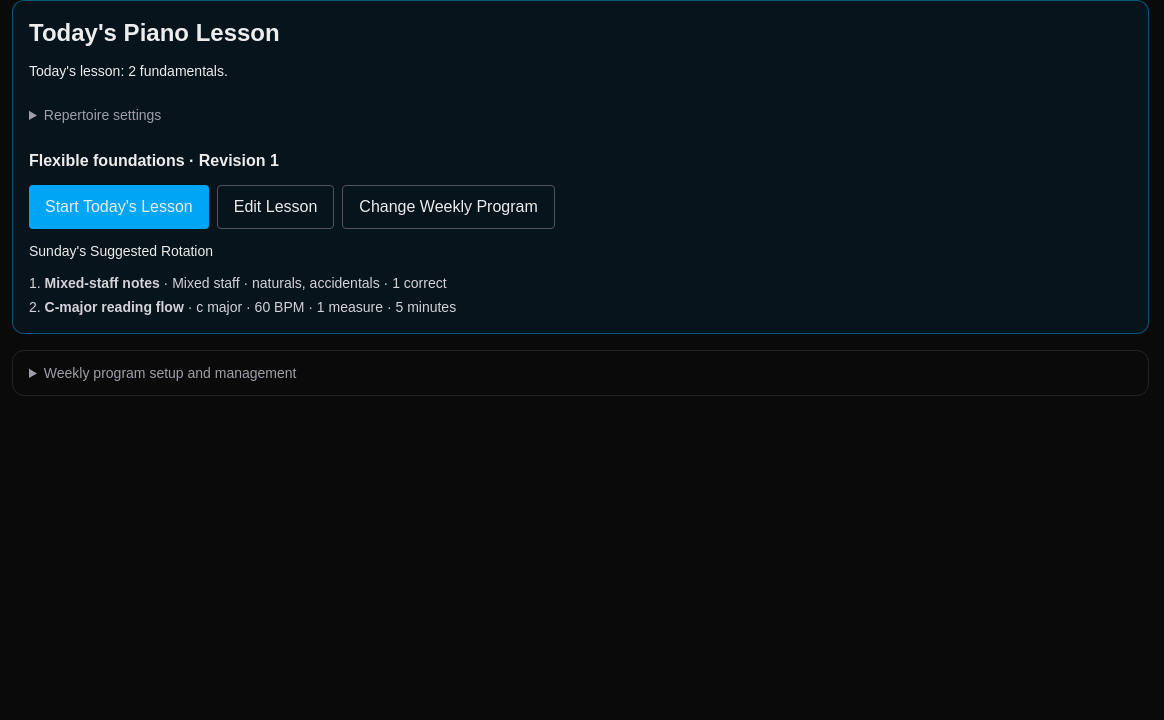
Test: one-action morning launch through the existing V2 owner › shares explicit manual repertoire preference changes with the daily card without changing the program
The width and height of the screenshot is (1164, 720).
Expected: the button "Start Today's Lesson" is enabled, 29,185 -> 209,229
Click the button "Edit Lesson" at (276, 207), box 217,185 -> 334,229
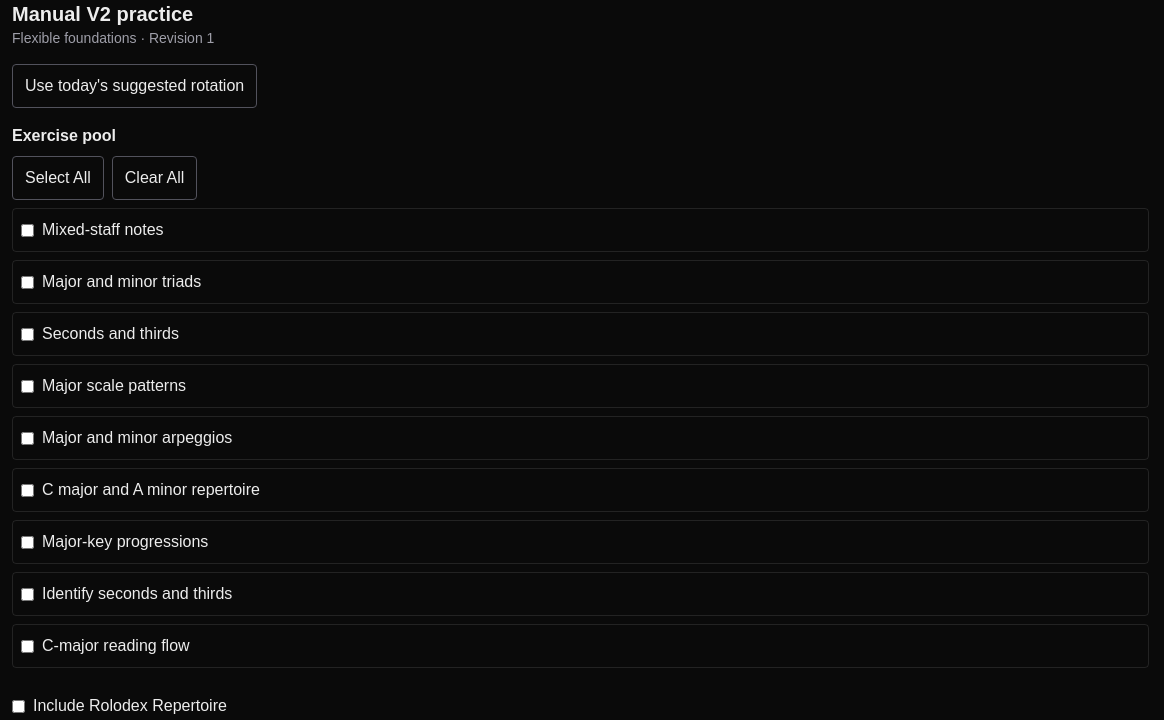
Now the checkbox labelled "Include Rolodex Repertoire" is not checked, box 12,700 -> 25,712
Click the button "Select All" at (58, 178), box 12,156 -> 104,200
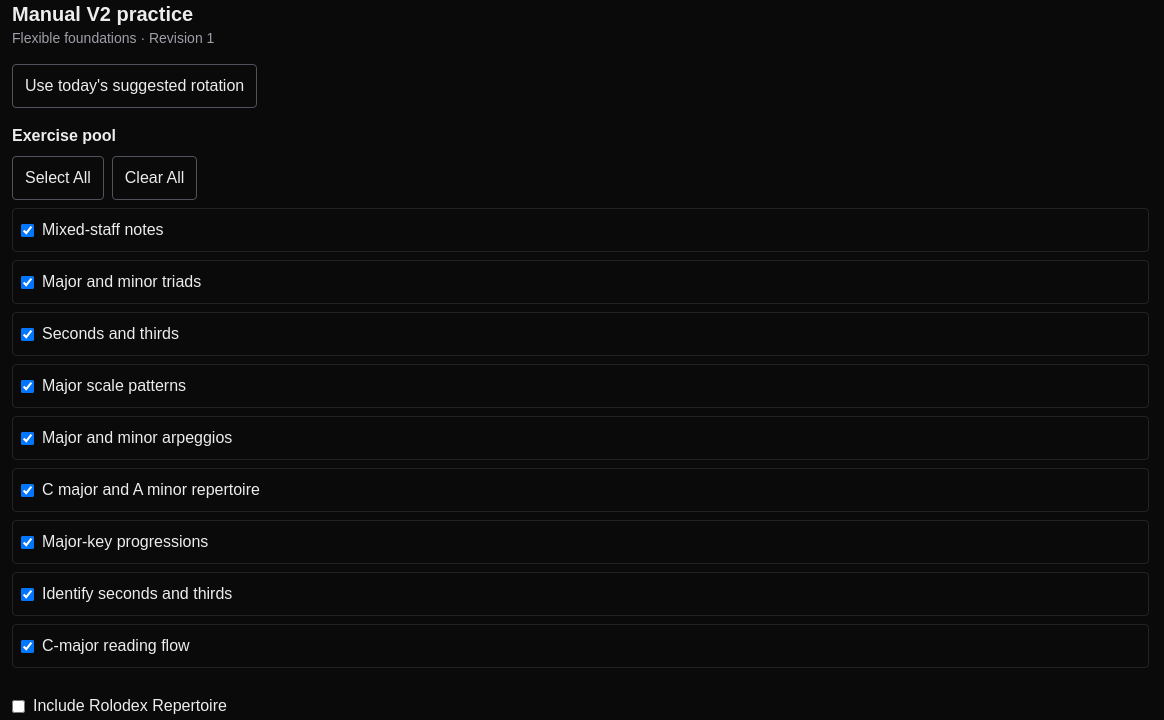
Click the checkbox labelled "Include Rolodex Repertoire" at (18, 706), box 12,700 -> 25,712
(page scrolled)
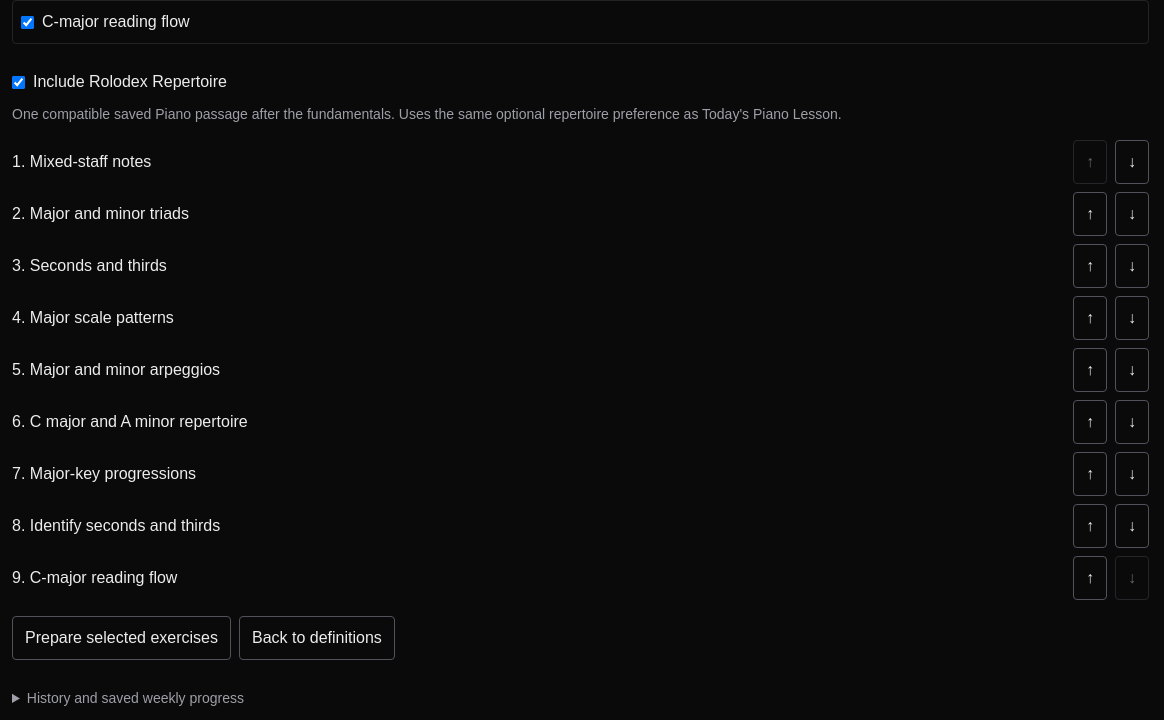
Click the button "Back to definitions" at (317, 638), box 239,616 -> 395,660
(page scrolled)
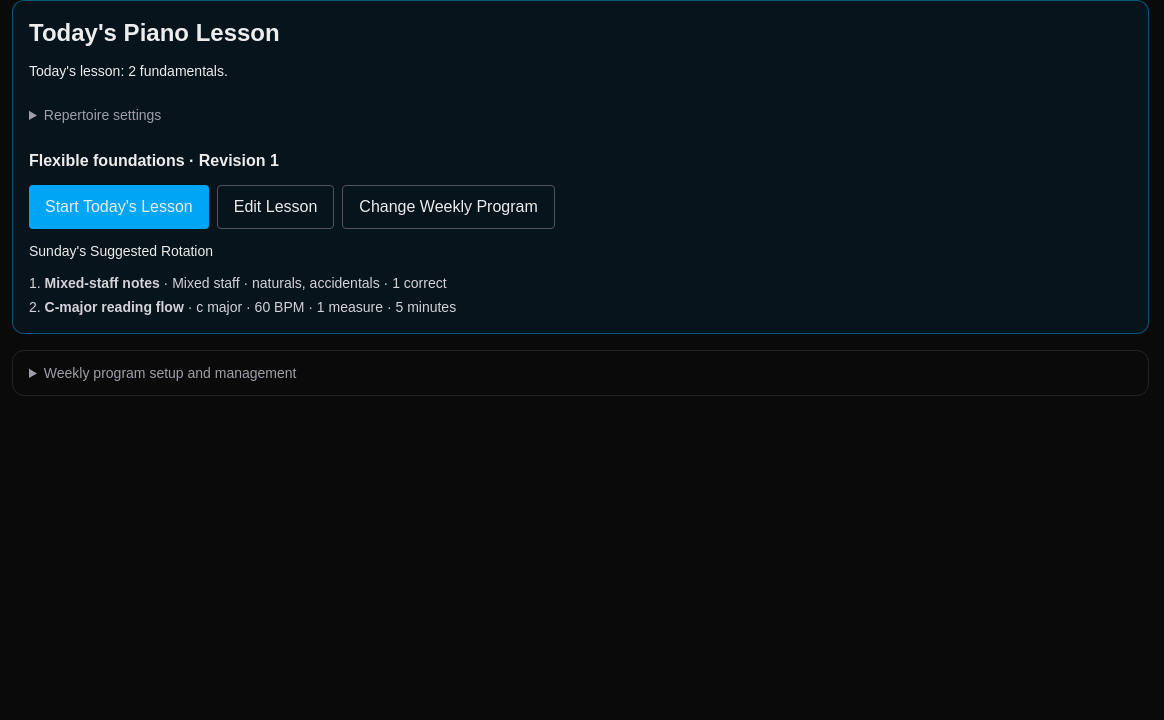
Now the button "Start Today's Lesson" is enabled, box 29,185 -> 209,229
